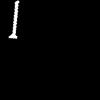half_double_crochet: (9, 1, 18, 37)
